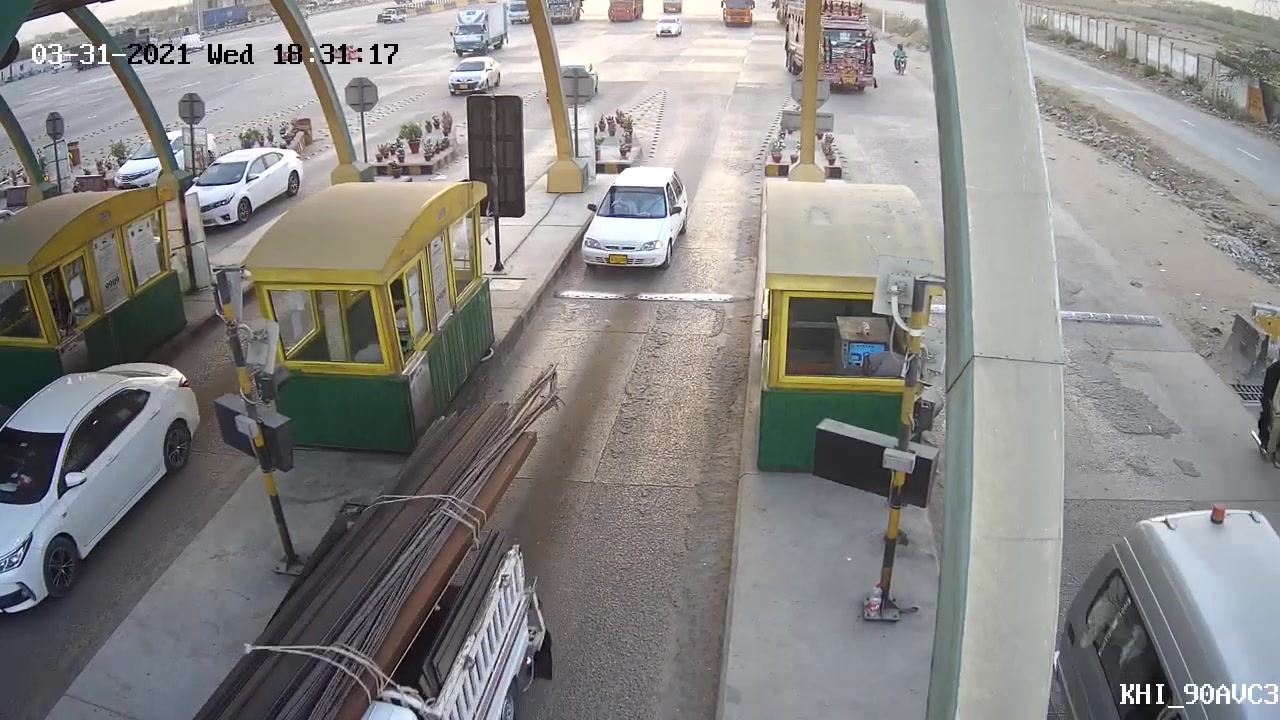F1: (577, 161, 695, 278)
